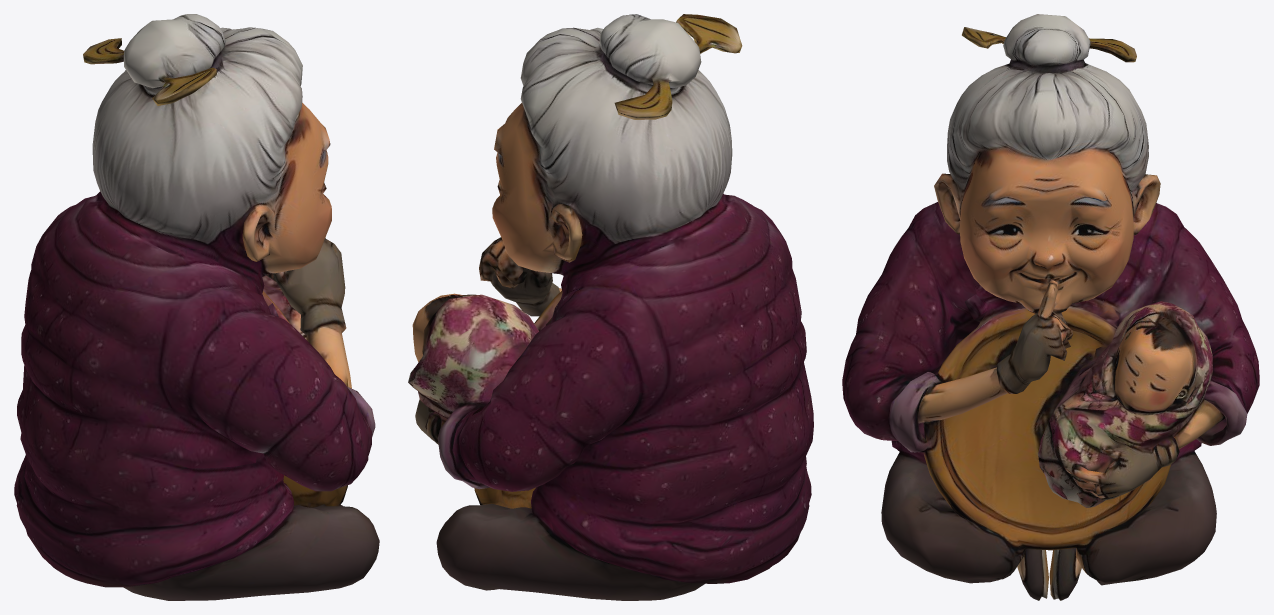
The model's file is n_amah.glb.
3 views of the same model, side by side, from view 1: azimuth 30°, elevation 25°; view 2: azimuth 150°, elevation 25°; view 3: azimuth 270°, elevation 25° (orthographic). The views are drawn at different scales.
Visible parts, largest first — view 1: tripo_node_c47a2698-12ed-42e9-8137-7186a12ed205; view 2: tripo_node_c47a2698-12ed-42e9-8137-7186a12ed205; view 3: tripo_node_c47a2698-12ed-42e9-8137-7186a12ed205.
Part boxes in pixels (x1=…): tripo_node_c47a2698-12ed-42e9-8137-7186a12ed205: x1=14, y1=14, x2=379, y2=600; tripo_node_c47a2698-12ed-42e9-8137-7186a12ed205: x1=408, y1=14, x2=813, y2=600; tripo_node_c47a2698-12ed-42e9-8137-7186a12ed205: x1=842, y1=14, x2=1259, y2=600.
Size of the model in its own units: 0.6119 by 1 by 0.7061.
Materials: 1 (1 with a texture image).
